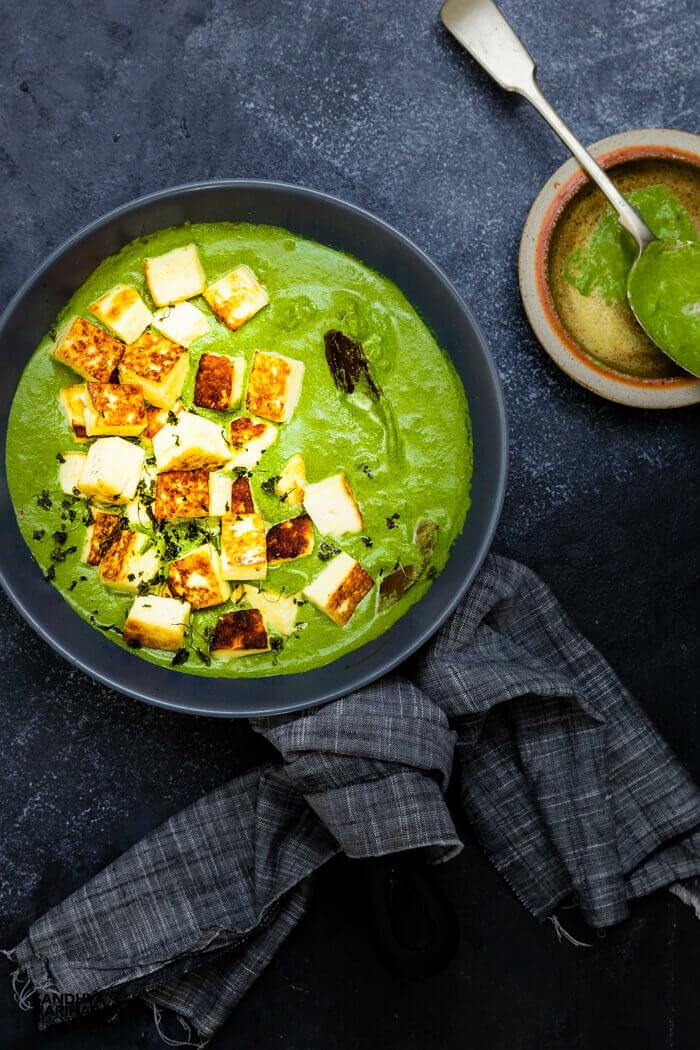PalakPaneer: (0, 224, 468, 672)
